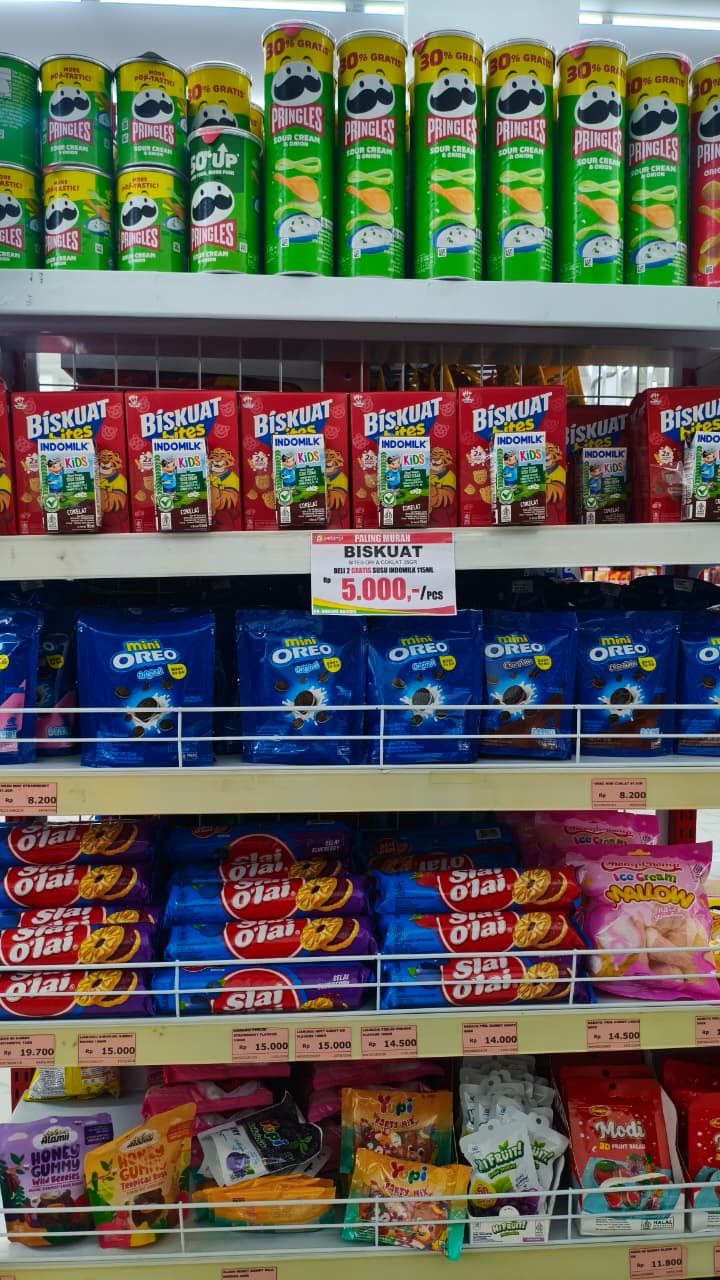Biskuat: (19, 394, 132, 525), (242, 393, 355, 524), (462, 388, 575, 519)
Oreo: (97, 644, 200, 758), (371, 634, 474, 748)
